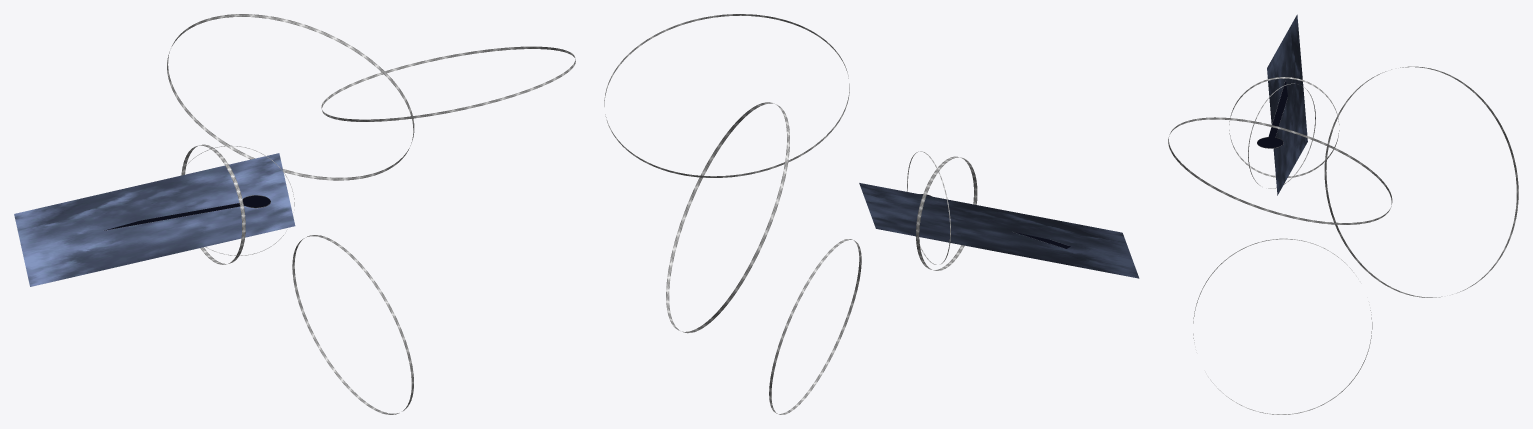
File: env_star_cat_01_pre.glb
The picture shows the model from 3 angles, left to right: view 1: azimuth 30°, elevation 25°; view 2: azimuth 150°, elevation 25°; view 3: azimuth 270°, elevation 25°; orthographic projection. The views are drawn at different scales.
Parts seen in each view (by area): view 1: GameObject (3), star_ground_arch_01 (2), star_ground_arch_01 (1), star_ground_arch_01 (3), star_ground_circle_fill_01_mesh, star_ground_arch_01; view 2: GameObject (3), star_ground_arch_01 (2), star_ground_arch_01 (1), star_ground_arch_01 (3), star_ground_arch_01; view 3: GameObject (3), star_ground_arch_01 (2), star_ground_arch_01 (1), star_ground_circle_fill_01_mesh, star_ground_arch_01, star_ground_arch_01 (3).
Part boxes in pixels (x1,y1,x2,y2): GameObject (3): (14,153,295,286); star_ground_arch_01 (2): (167,14,414,180); star_ground_arch_01 (1): (321,46,575,121); star_ground_arch_01 (3): (292,235,413,414); star_ground_circle_fill_01_mesh: (104,195,270,230); star_ground_arch_01: (181,144,245,264); GameObject (3): (859,183,1139,278); star_ground_arch_01 (2): (666,102,789,333); star_ground_arch_01 (1): (604,14,849,177); star_ground_arch_01 (3): (769,239,861,414); star_ground_arch_01: (916,156,977,270); GameObject (3): (1267,14,1307,195); star_ground_arch_01 (2): (1324,66,1518,297); star_ground_arch_01 (1): (1168,117,1392,224); star_ground_circle_fill_01_mesh: (1257,80,1287,148); star_ground_arch_01: (1229,77,1339,177); star_ground_arch_01 (3): (1193,238,1372,414).
Size of the model in its own units: 376 by 241 by 236.
5 materials, 5 textured.
